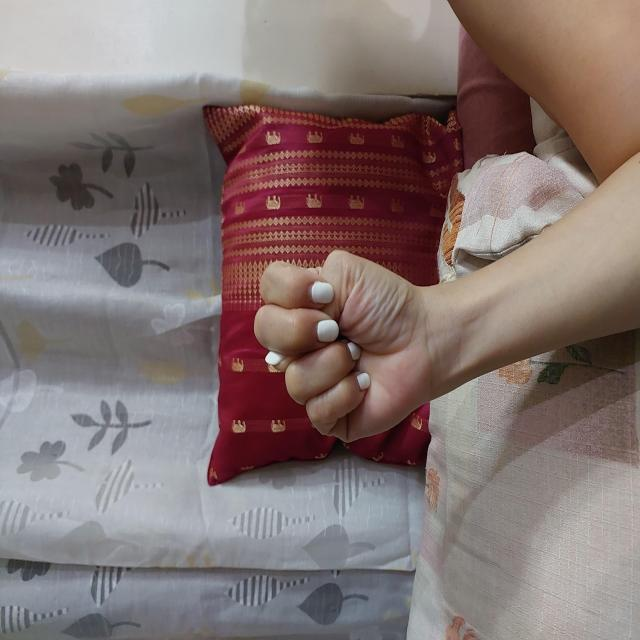N: (198, 253, 398, 437)
